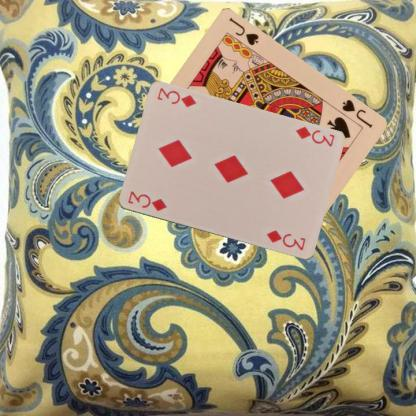3d: (124, 188, 167, 213), (292, 124, 336, 148)
Js: (338, 96, 374, 130)
